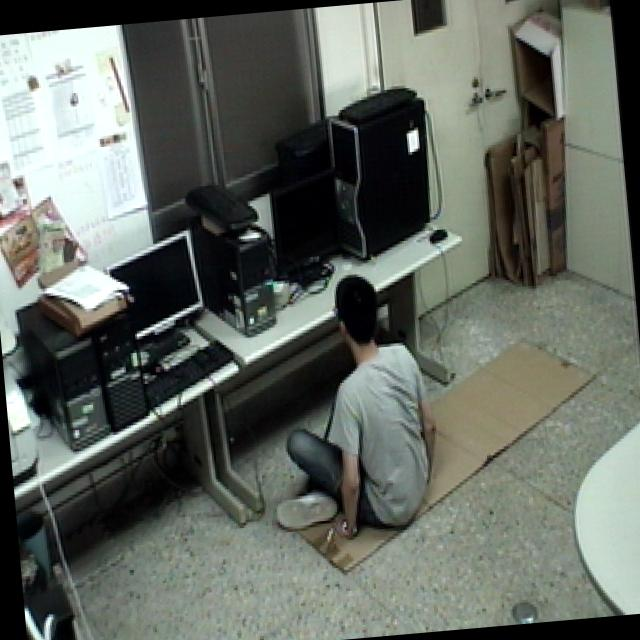sit: (250, 262, 456, 555)
